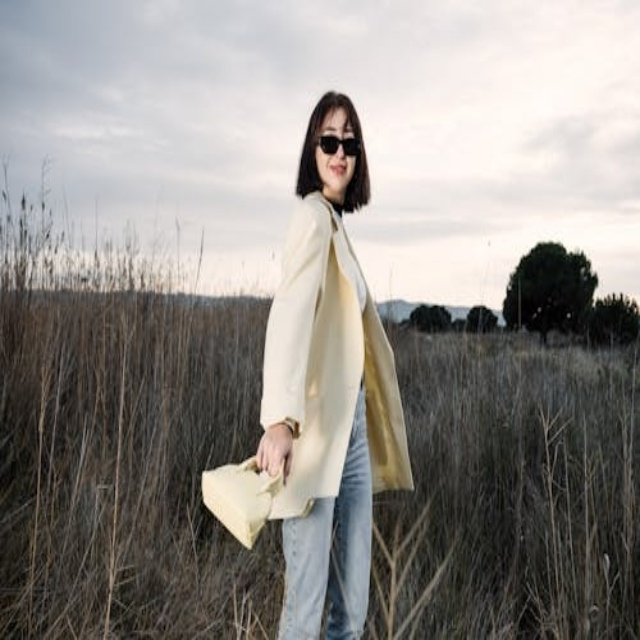Gafas: (316, 125, 358, 156)
Sin_guantes: (257, 422, 295, 479)
Sin_mascara: (321, 160, 353, 190)
